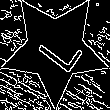L_NW: (27, 22, 83, 77)
